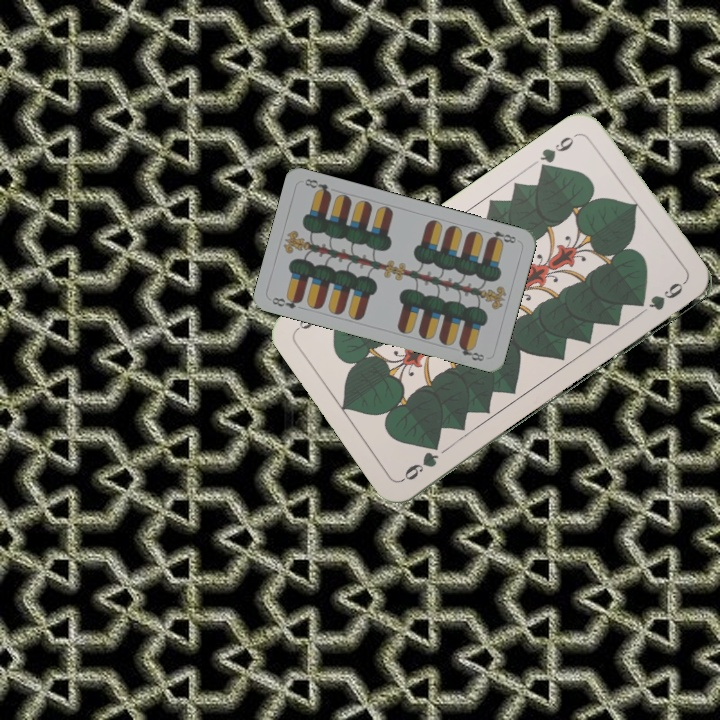E8: (268, 292, 305, 311), (484, 227, 519, 246)
G9: (535, 128, 584, 174), (398, 447, 441, 484)
